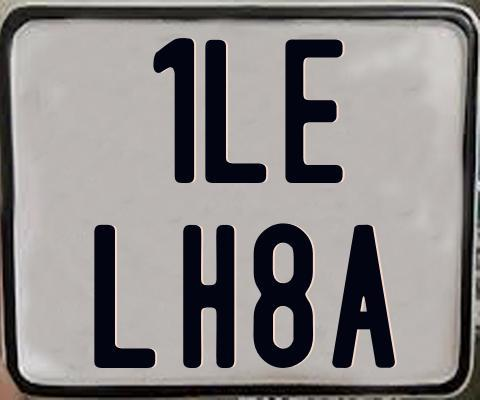1: (152, 38, 193, 185)
8: (251, 222, 313, 373)
A: (331, 224, 396, 367)
E: (282, 36, 344, 184)
H: (182, 222, 236, 368)
L: (91, 223, 155, 370), (205, 38, 266, 186)
